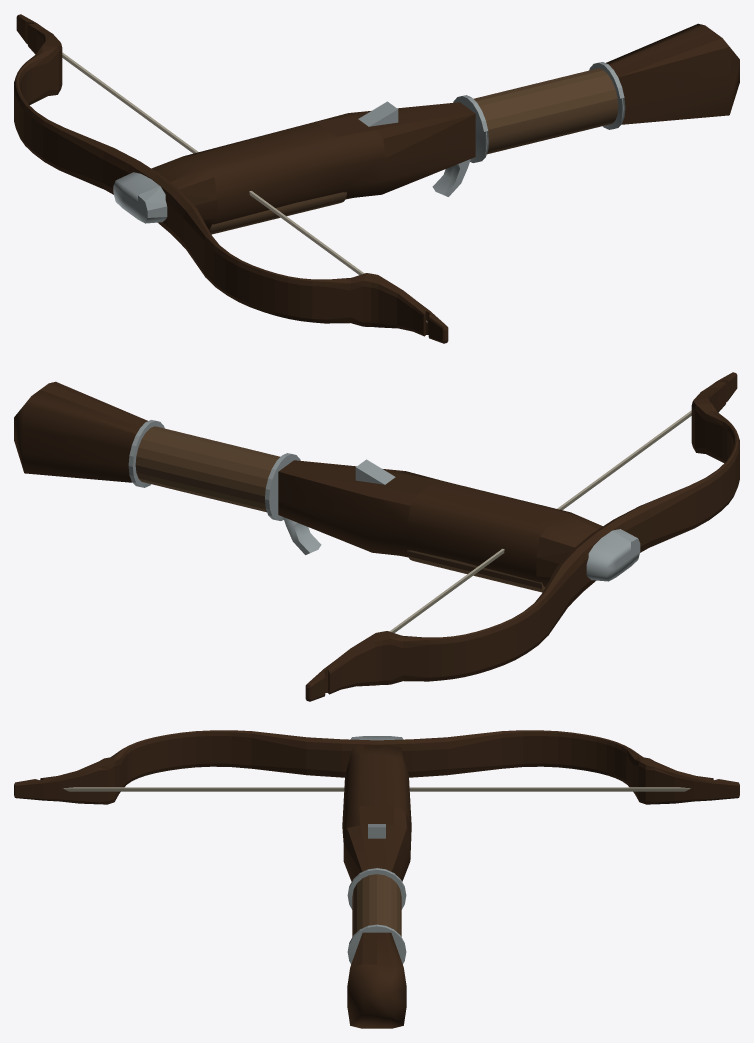
3 views of the same model, one above another, from view 1: azimuth 30°, elevation 25°; view 2: azimuth 150°, elevation 25°; view 3: azimuth 270°, elevation 25° (orthographic). The views are drawn at different scales.
Parts seen in each view (by area): view 1: SM_Crossbow_01_LOD0; view 2: SM_Crossbow_01_LOD0; view 3: SM_Crossbow_01_LOD0.
Part boxes in pixels (box(x1,y1,x2,y2)): SM_Crossbow_01_LOD0: box(14, 14, 739, 343); SM_Crossbow_01_LOD0: box(14, 372, 739, 701); SM_Crossbow_01_LOD0: box(14, 730, 739, 1028).
Bounding box in the file's own units: 0.9769 × 0.1582 × 1.2.
